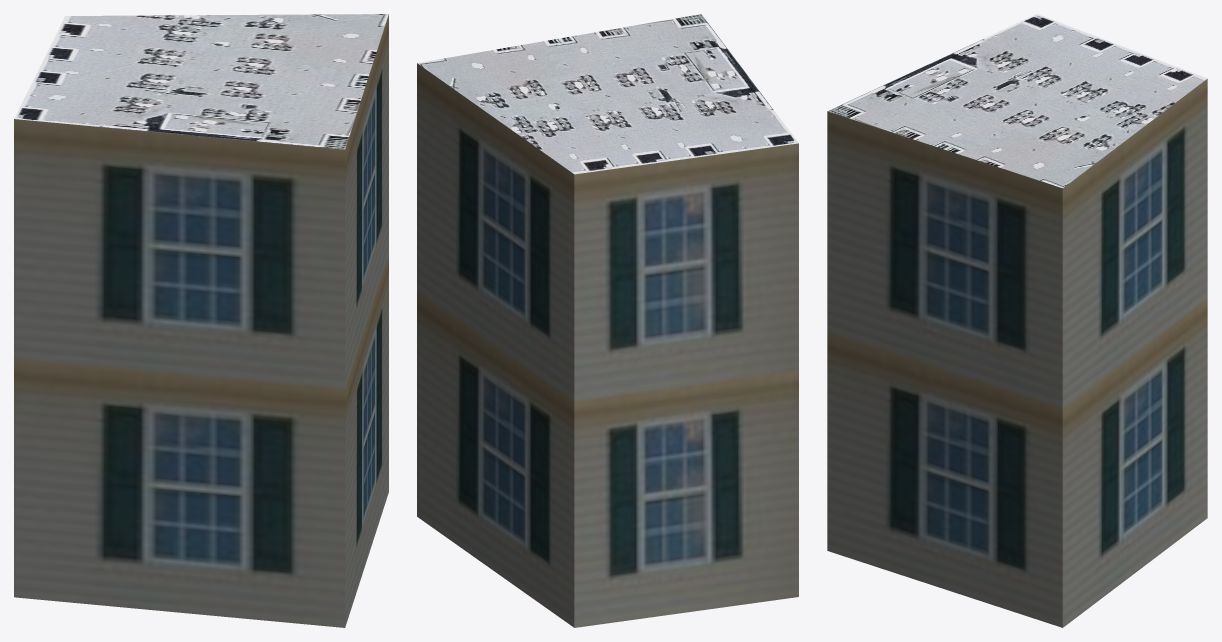
Rendered from ResTex__1693.fbx.
The picture shows the model from 3 angles, left to right: view 1: azimuth 30°, elevation 25°; view 2: azimuth 150°, elevation 25°; view 3: azimuth 270°, elevation 25°; orthographic projection. The views are drawn at different scales.
Visible parts, largest first — view 1: CityEngineMaterial_7_m, CityEngineMaterial_4_m; view 2: CityEngineMaterial_7_m, CityEngineMaterial_4_m; view 3: CityEngineMaterial_7_m, CityEngineMaterial_4_m.
Boxes of the visible parts, bbox=[...] form: CityEngineMaterial_7_m: bbox=[14, 14, 388, 627]; CityEngineMaterial_4_m: bbox=[14, 14, 388, 149]; CityEngineMaterial_7_m: bbox=[417, 63, 798, 627]; CityEngineMaterial_4_m: bbox=[417, 14, 798, 174]; CityEngineMaterial_7_m: bbox=[827, 79, 1207, 627]; CityEngineMaterial_4_m: bbox=[828, 14, 1207, 188].
Size of the model in its own units: 5.1 by 6 by 4.7.
Materials: 2 (2 with a texture image).
